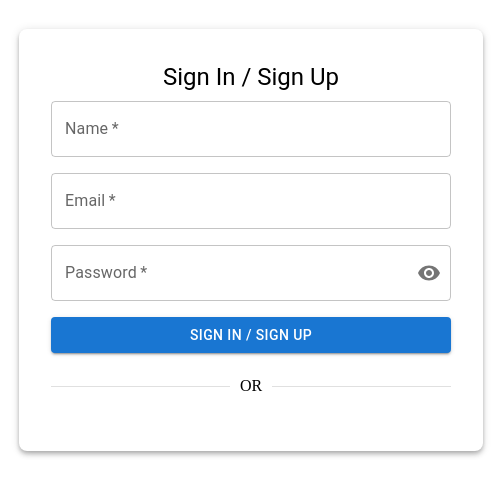
AuthPage › Form Validation › Password Validation › shows error for password without uppercase letter
In the password field labelled "Password *": (226, 273) [51,245,401,301], type "lowercase123!"
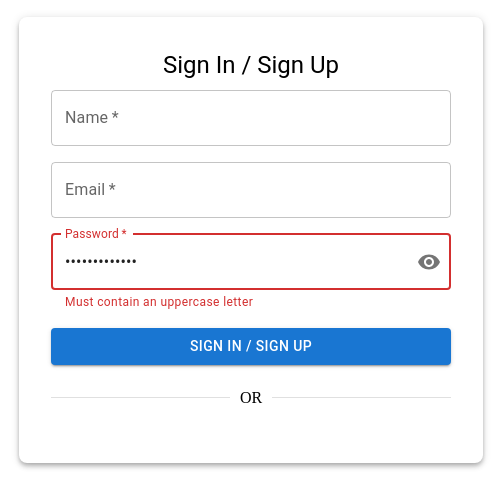
Now the text "Must contain an uppercase letter" is shown, box [65,294,253,308]
